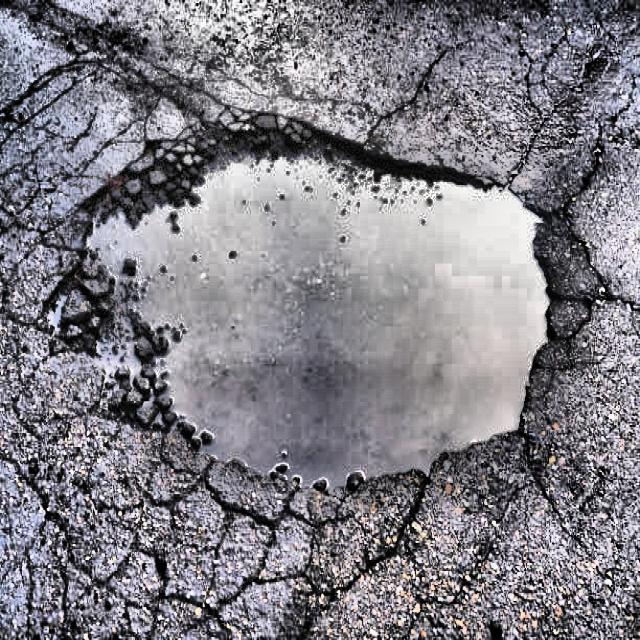pothole: (86, 129, 548, 486)
